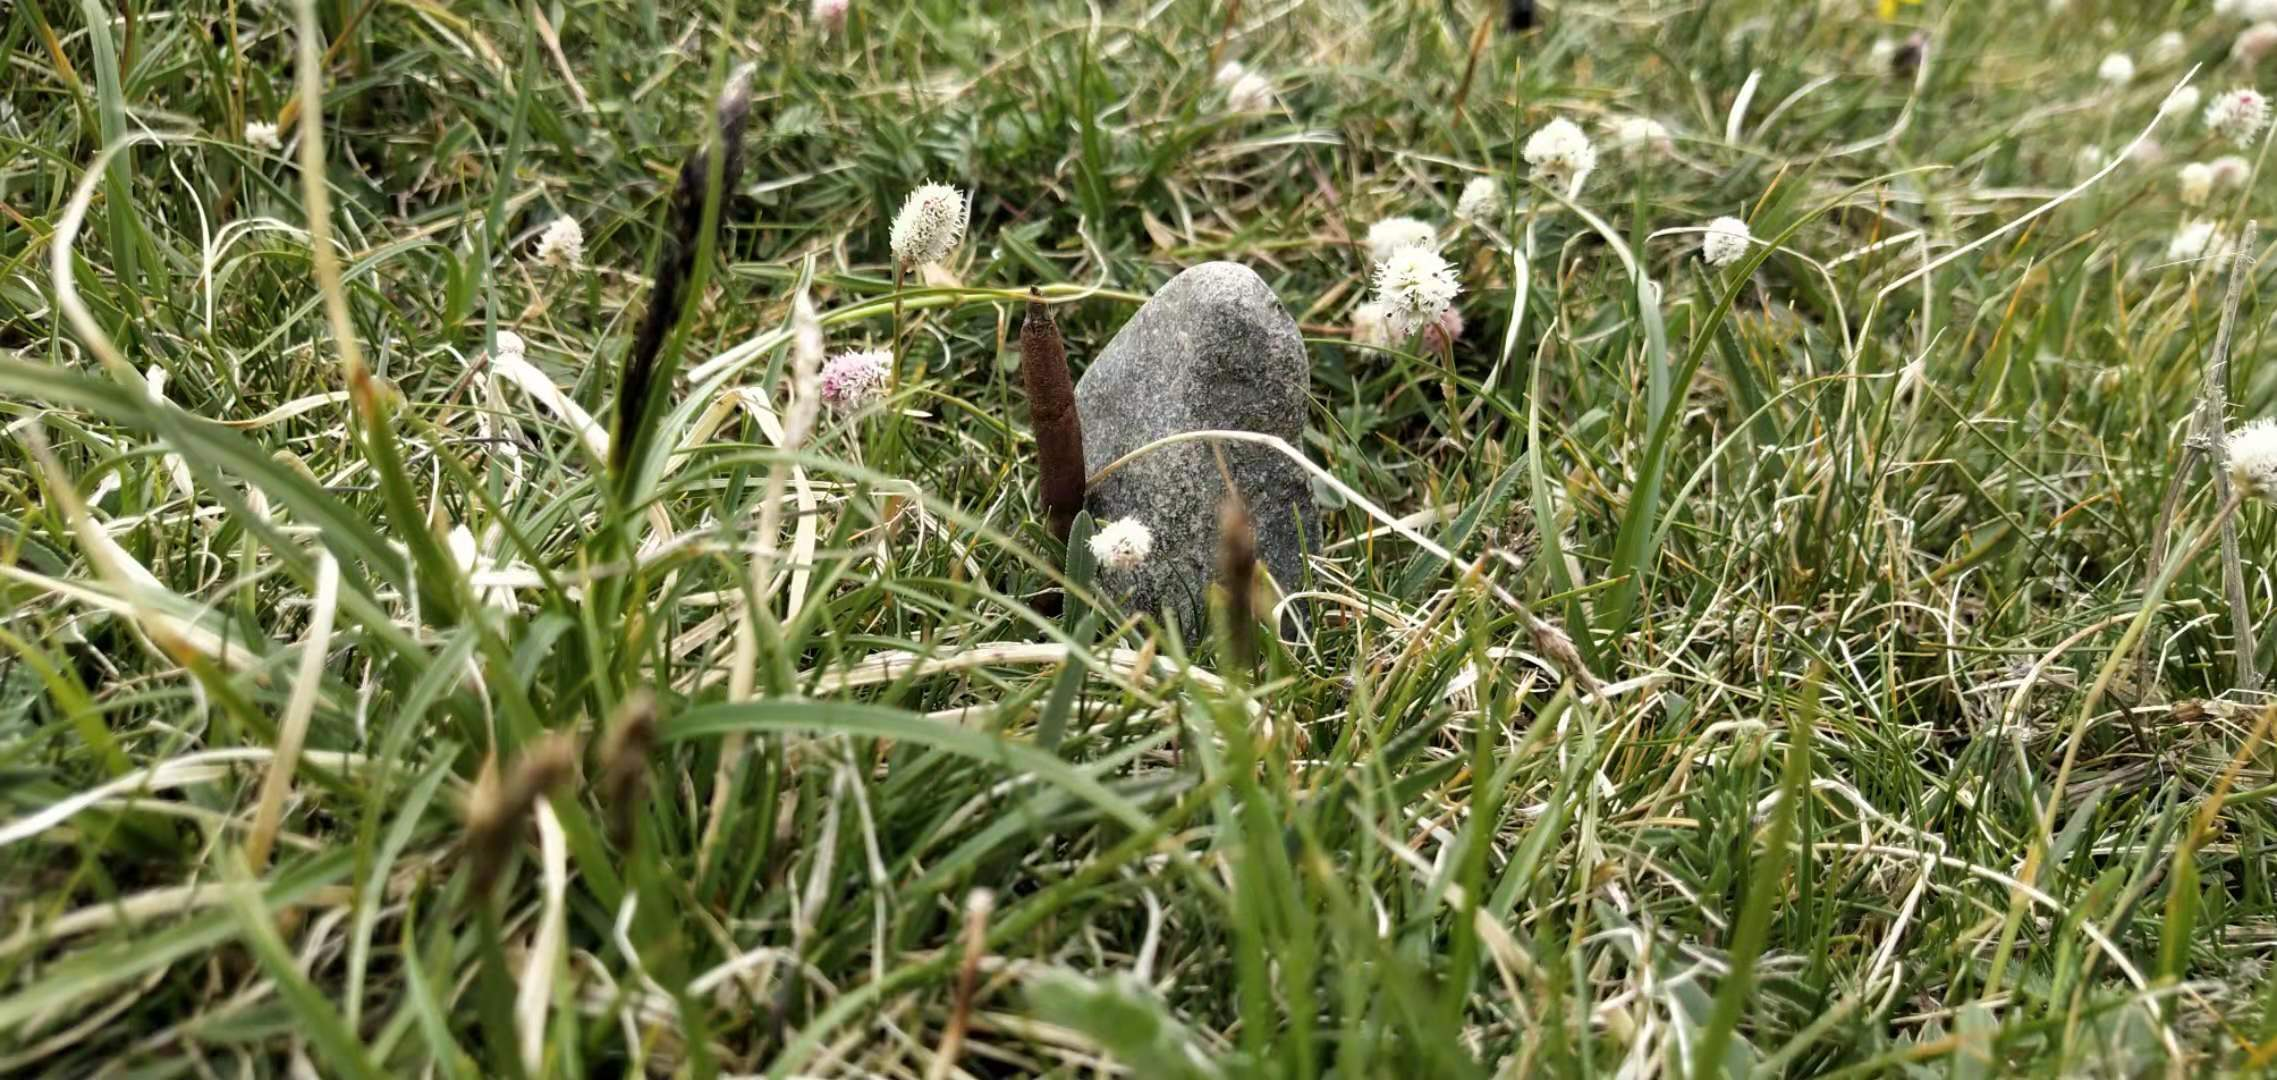cpf: (1018, 290, 1088, 544)
